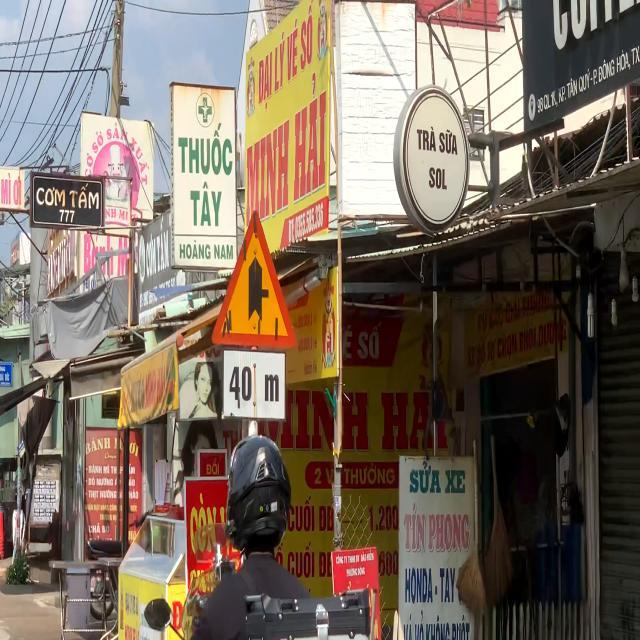Giao nhau voi duong khong uu tien ben phai: (211, 208, 296, 349)
